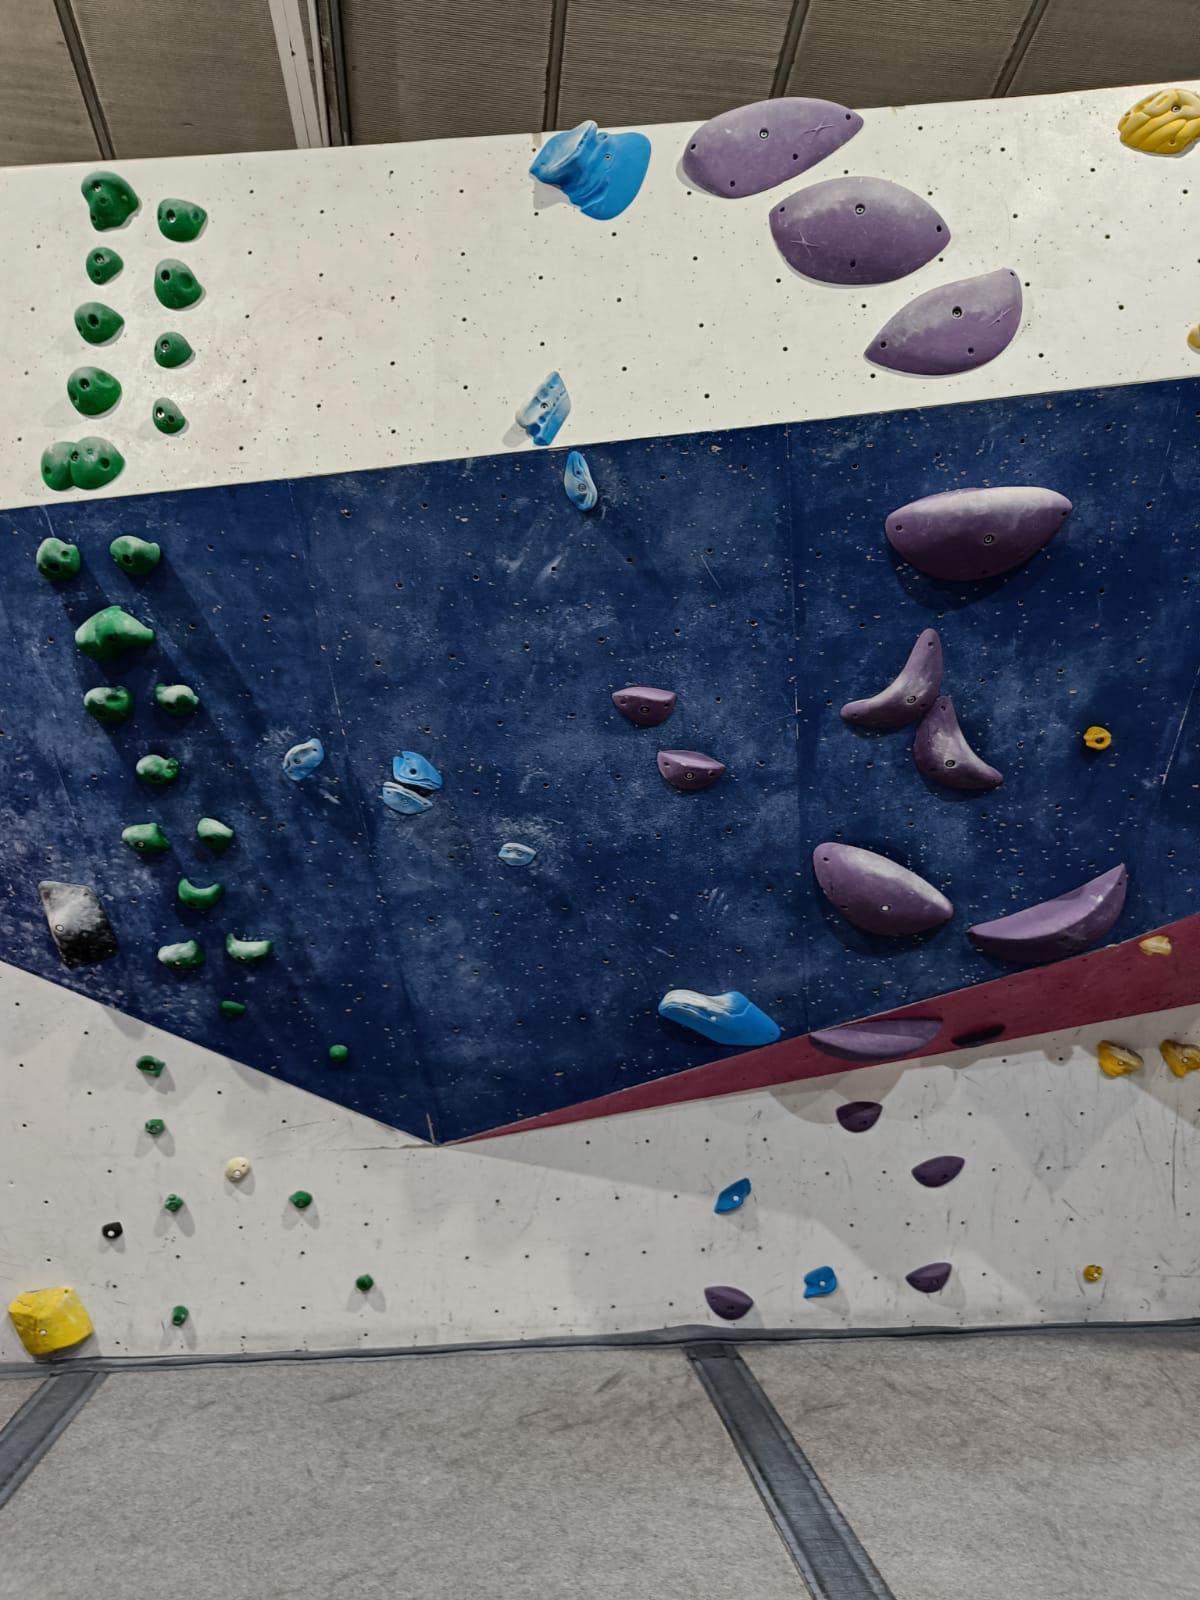hold: (769, 176, 950, 285), (682, 97, 863, 198), (884, 486, 1073, 581), (863, 268, 1022, 375), (966, 862, 1127, 961), (813, 842, 954, 937), (529, 120, 650, 219), (839, 627, 944, 729), (913, 695, 1006, 790), (38, 881, 121, 969), (658, 989, 782, 1047), (9, 1286, 96, 1358), (808, 1018, 944, 1062), (1116, 88, 1200, 155), (73, 605, 156, 661), (40, 436, 125, 491), (514, 370, 571, 446), (81, 170, 139, 232), (657, 751, 727, 790), (67, 367, 122, 416), (611, 685, 677, 727), (154, 258, 202, 310), (563, 450, 599, 511), (158, 198, 207, 242), (35, 537, 81, 583), (74, 302, 125, 344), (110, 535, 161, 576), (392, 751, 444, 790), (282, 738, 326, 782), (83, 685, 134, 723), (1097, 1041, 1145, 1078), (703, 1286, 754, 1320), (911, 1157, 966, 1188), (382, 782, 434, 815), (121, 821, 171, 853), (178, 877, 224, 911), (1160, 1039, 1200, 1078), (224, 932, 274, 964), (156, 940, 207, 970), (154, 683, 199, 716), (86, 247, 125, 285), (905, 1262, 953, 1293), (836, 1101, 884, 1131), (135, 753, 179, 785), (949, 1024, 1007, 1048), (155, 331, 193, 368), (713, 1178, 751, 1213), (153, 397, 185, 433), (197, 818, 234, 849), (803, 1266, 838, 1299), (498, 843, 537, 866), (1083, 724, 1113, 751), (1137, 935, 1172, 956), (135, 1054, 166, 1078), (224, 1157, 251, 1183), (287, 1191, 313, 1208), (221, 1000, 246, 1018), (170, 1304, 189, 1327), (1082, 1264, 1104, 1283), (329, 1044, 350, 1063), (1186, 323, 1200, 350), (164, 1193, 184, 1212), (102, 1222, 124, 1240), (145, 1119, 168, 1135), (354, 1274, 374, 1291)
